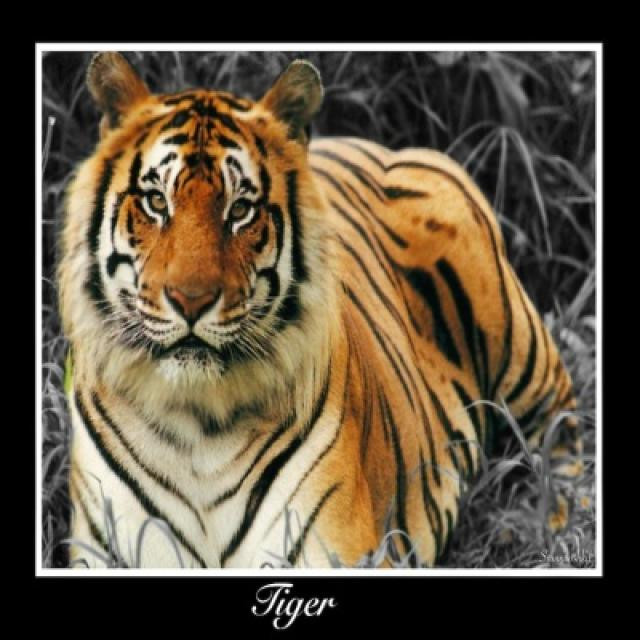Tiger: (55, 58, 589, 573)
